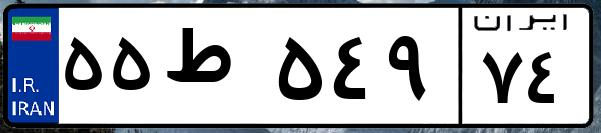4: (330, 28, 385, 110), (525, 38, 570, 115)
5: (270, 28, 330, 110), (57, 26, 110, 100), (110, 28, 158, 98)
7: (475, 38, 525, 113)
9: (385, 28, 445, 110)
ط: (158, 20, 270, 120)
